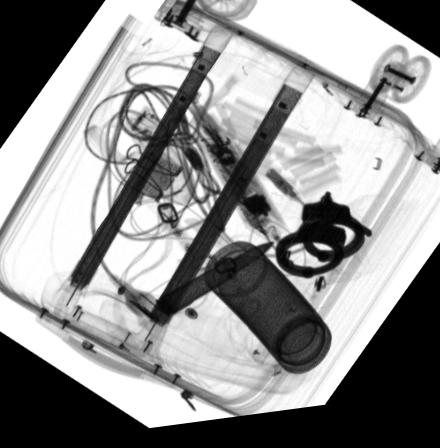Bullet: (152, 246, 275, 322)
HandCuffs: (272, 198, 371, 286)
